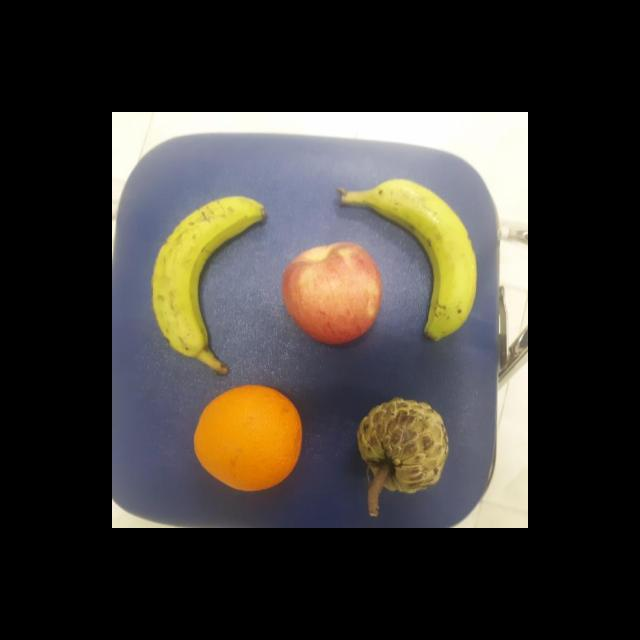Sakya fruit: (355, 396, 449, 493)
apple: (281, 240, 382, 344)
banana: (337, 180, 477, 343), (152, 196, 266, 376)
orange: (194, 385, 302, 491)
